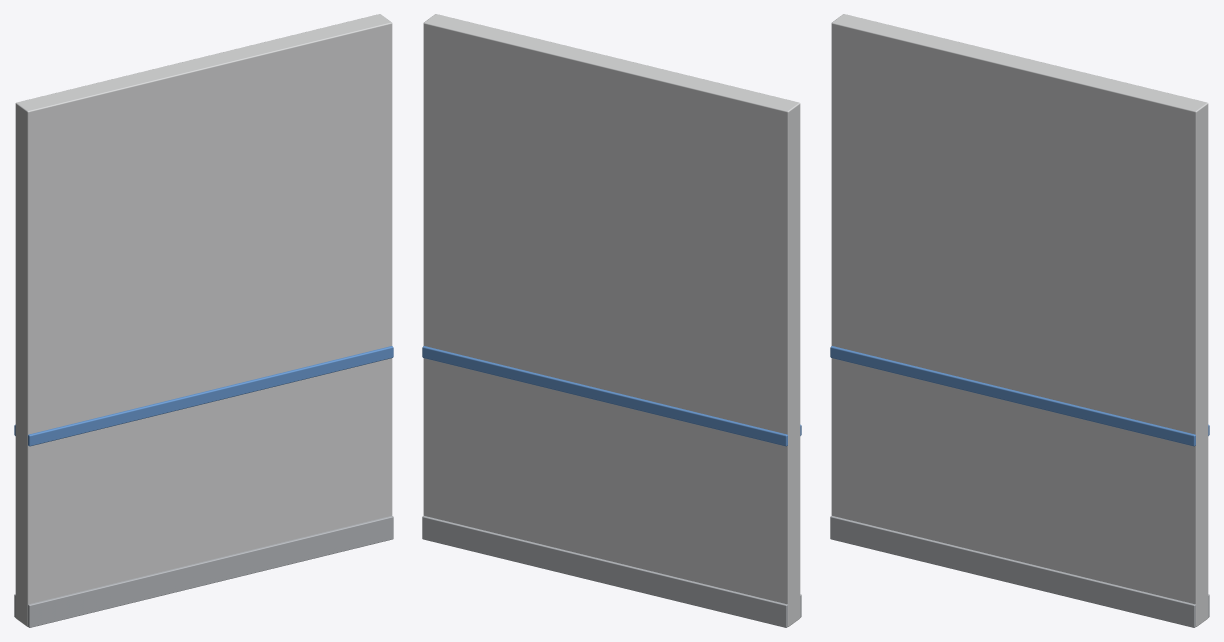
The model's file is Corridor Wall Module Blue (Dental Practice and Surgery).glb.
The picture shows the model from 3 angles, left to right: view 1: azimuth 30°, elevation 25°; view 2: azimuth 150°, elevation 25°; view 3: azimuth 330°, elevation 25°; orthographic projection.
Parts seen in each view (by area): view 1: corridor-wall-module-blue; view 2: corridor-wall-module-blue; view 3: corridor-wall-module-blue.
Boxes of the visible parts, <box> form: corridor-wall-module-blue: <box>14,14,393,627</box>; corridor-wall-module-blue: <box>422,14,801,627</box>; corridor-wall-module-blue: <box>830,14,1209,627</box>.
Size of the model in its own units: 2 by 2.7 by 0.146.
